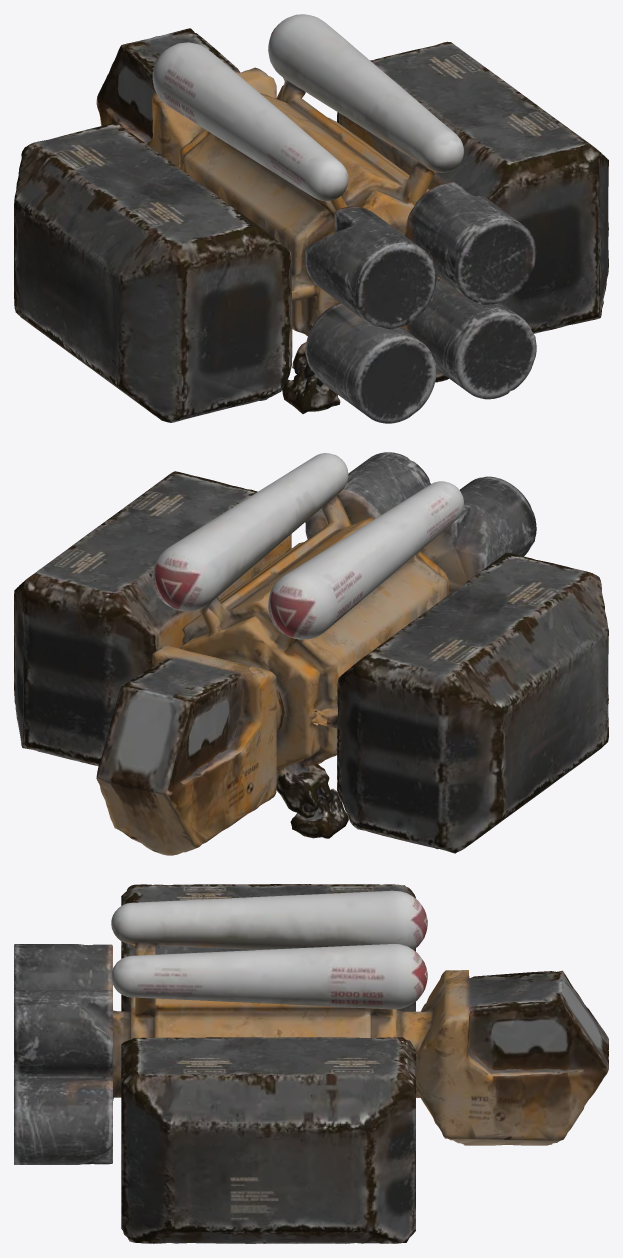
The model's file is spacecraft03.glb.
The picture shows the model from 3 angles, top to bottom: view 1: azimuth 30°, elevation 25°; view 2: azimuth 150°, elevation 25°; view 3: azimuth 270°, elevation 25°; orthographic projection. The views are drawn at different scales.
Visible parts, largest first — view 1: Object_2; view 2: Object_2; view 3: Object_2.
Part boxes in pixels (box(x1,y1,x2,y2)): Object_2: box(14, 14, 608, 423); Object_2: box(14, 452, 608, 855); Object_2: box(14, 884, 608, 1243).
Bounding box in the file's own units: 122 × 63.15 × 137.
Materials: 1 (1 with a texture image).
